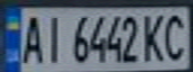2: (121, 11, 142, 63)
4: (87, 11, 109, 63), (106, 11, 127, 63)
6: (66, 11, 90, 63)
A: (18, 11, 48, 65)
C: (160, 9, 193, 62)
I: (39, 11, 66, 64)
K: (139, 10, 169, 63)
